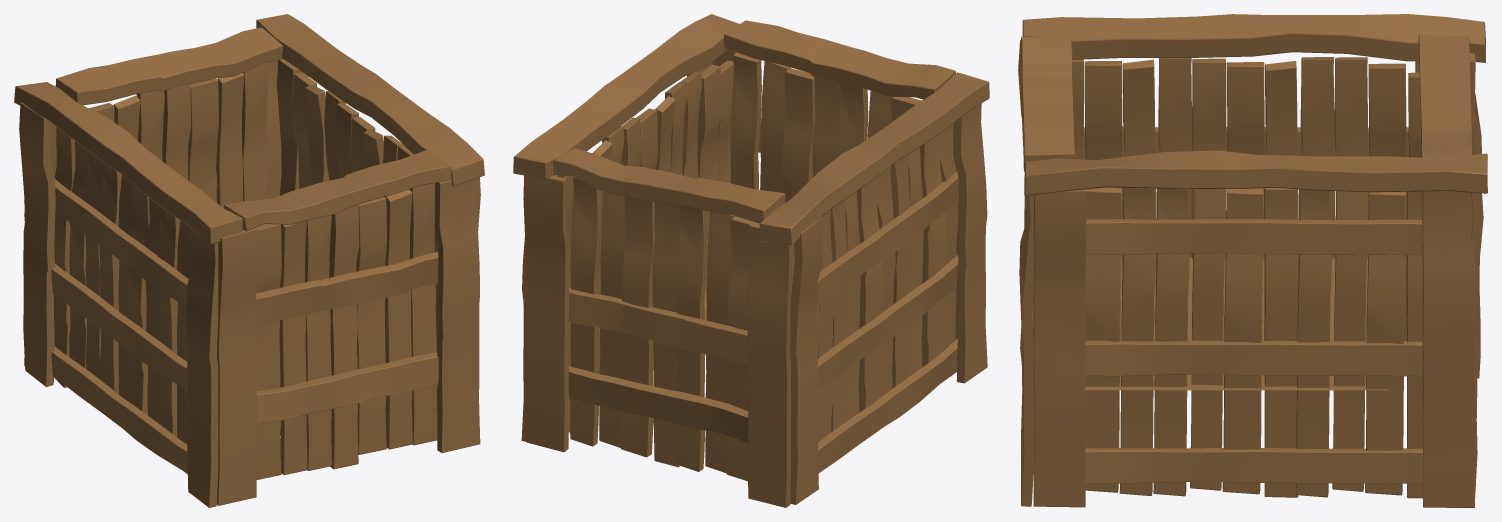
Rendered from SM_caisseVide.fbx.
3 renders of one model, left to right at view 1: azimuth 30°, elevation 25°; view 2: azimuth 150°, elevation 25°; view 3: azimuth 270°, elevation 25°, orthographic. The views are drawn at different scales.
Visible parts, largest first — view 1: SM_caisseVide; view 2: SM_caisseVide; view 3: SM_caisseVide.
Part boxes in pixels (x1,y1,x2,y2): SM_caisseVide: (14, 14, 484, 507); SM_caisseVide: (513, 14, 989, 507); SM_caisseVide: (1018, 14, 1487, 507).
Bounding box in the file's own units: 171 × 173 × 212.
